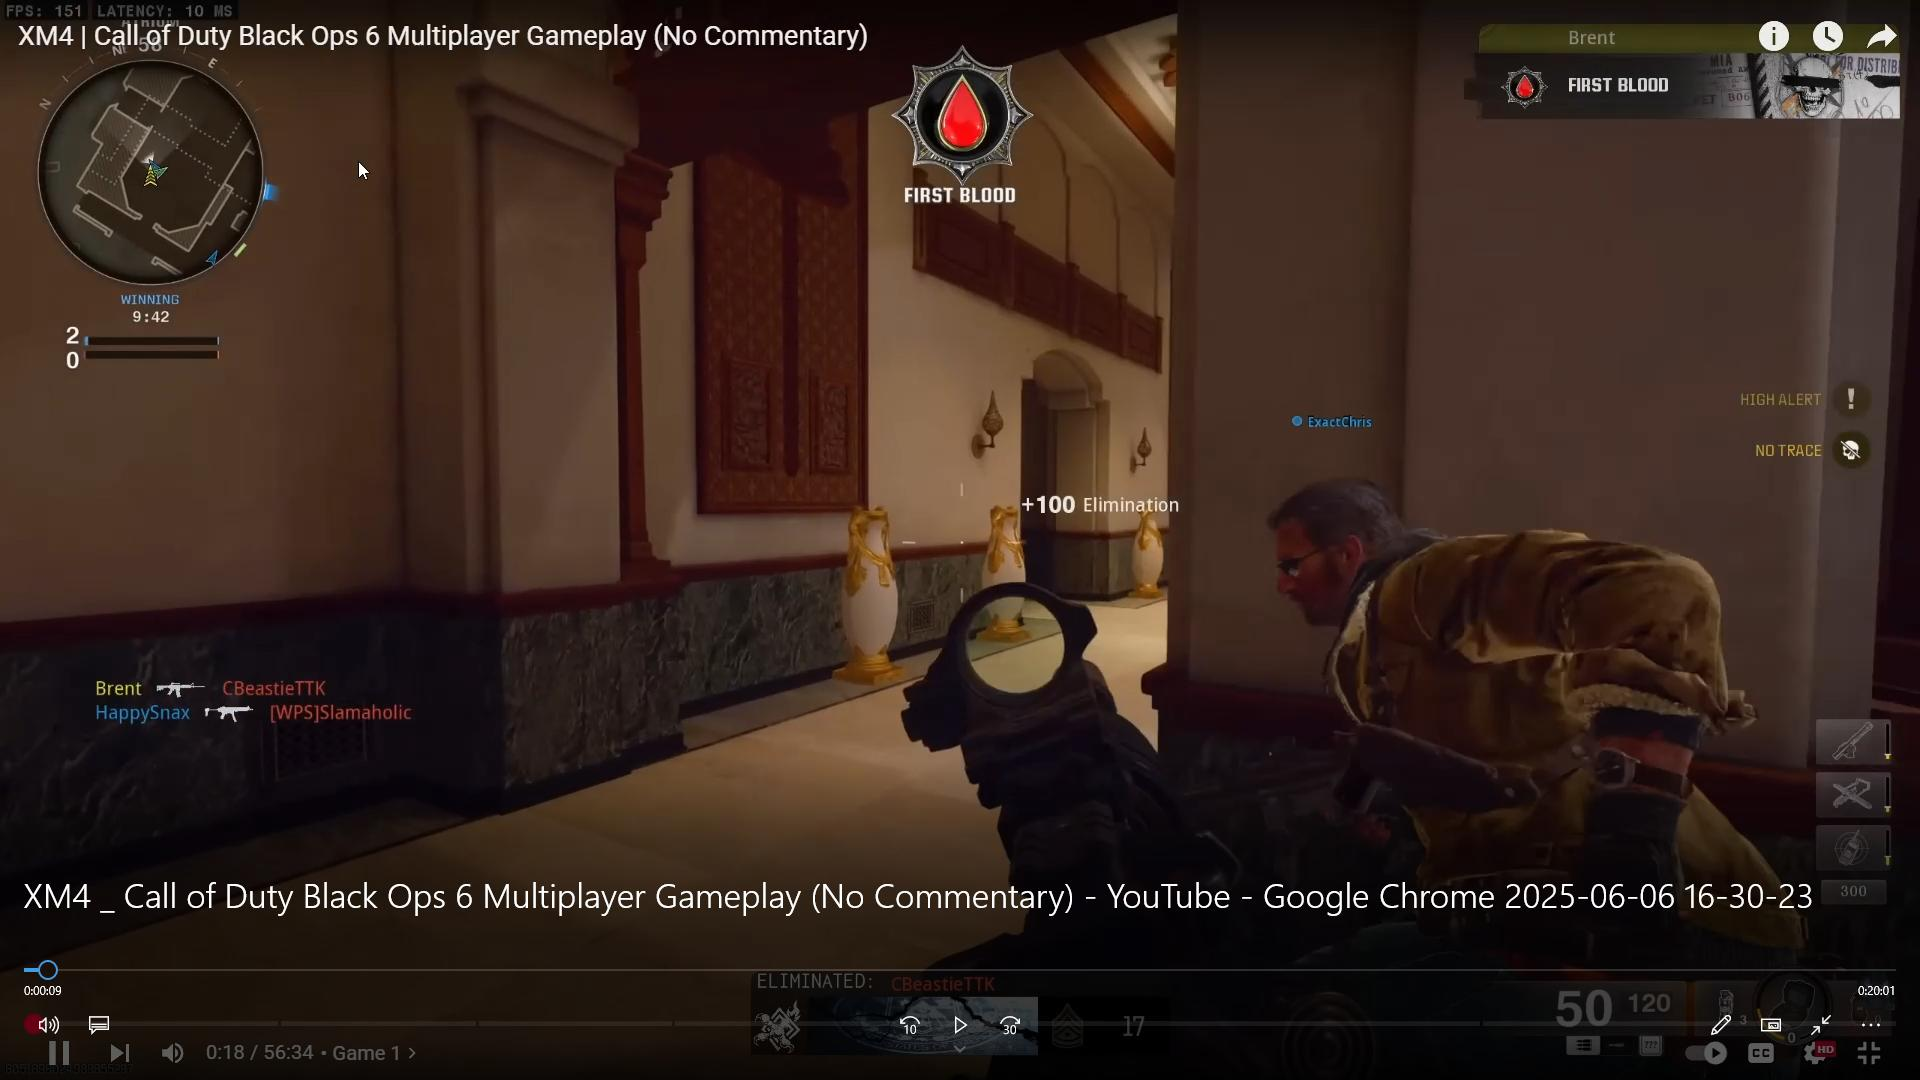Enemy: (1244, 468, 1730, 709)
